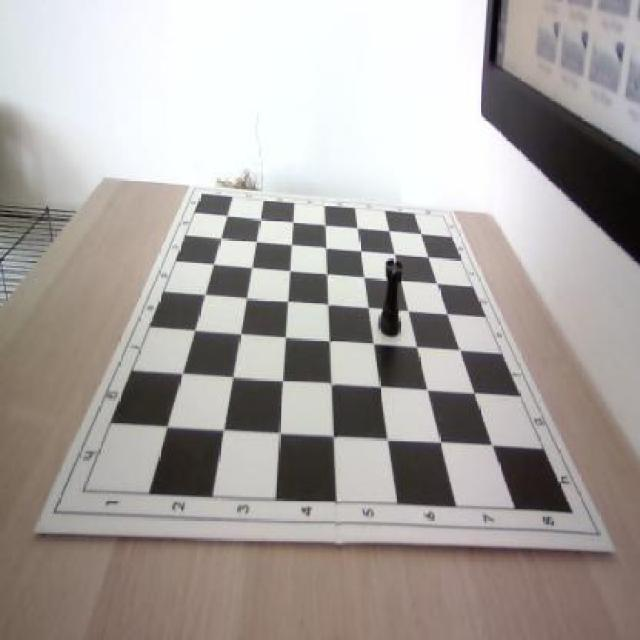black-queen: (377, 257, 402, 337)
